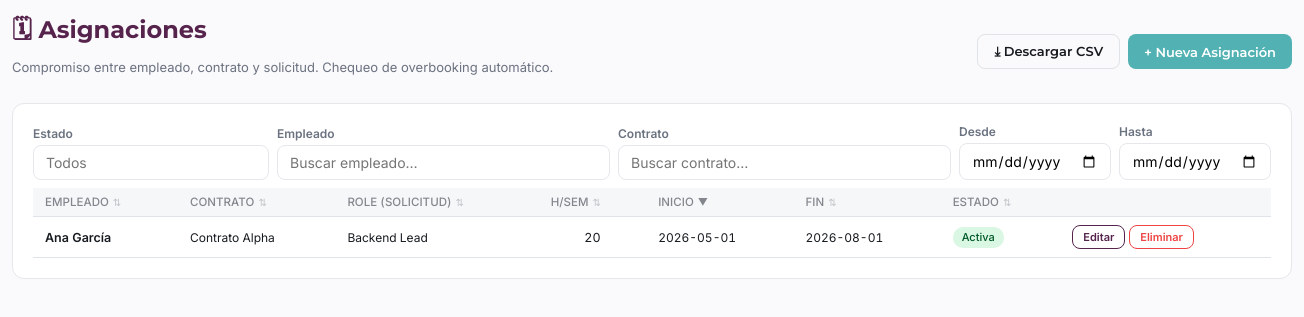
Test: SPEC-008: filtro por contrato — ContractMultiSelect › selects a contract and shows it as a chip
Expected: the text "Ana García" is shown, [33,216,178,258]
Focus the field named "Filtro por contrato" at [784, 162], box [618,145,951,180]
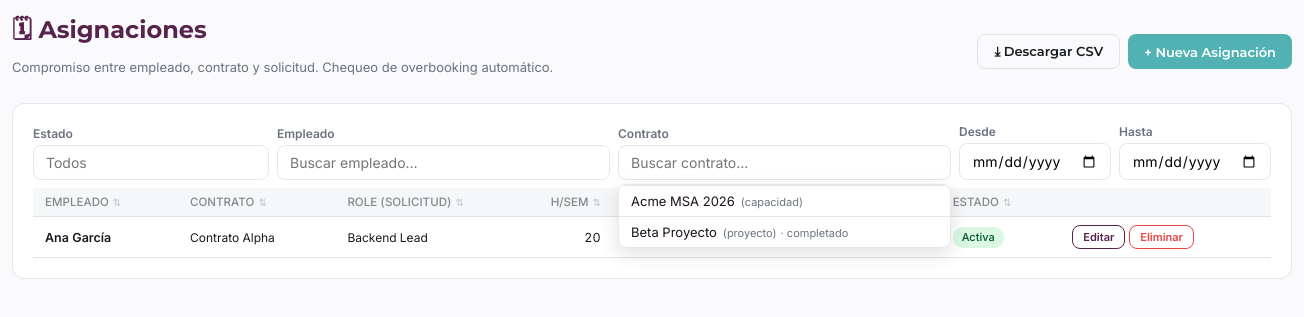
Press the mouse on the option "Acme MSA 2026(capacidad)" at [784, 200], box [619,185,950,216]
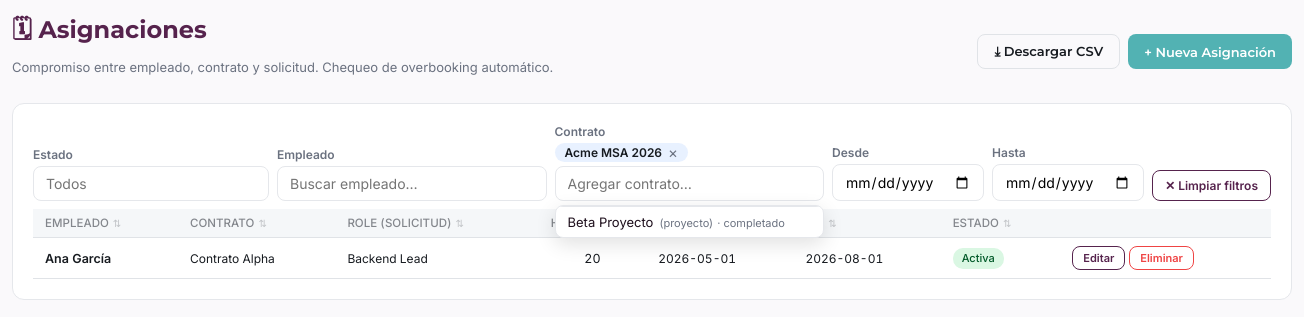
Result: the button named "Quitar Acme MSA 2026" is shown at [666,145,680,160]
